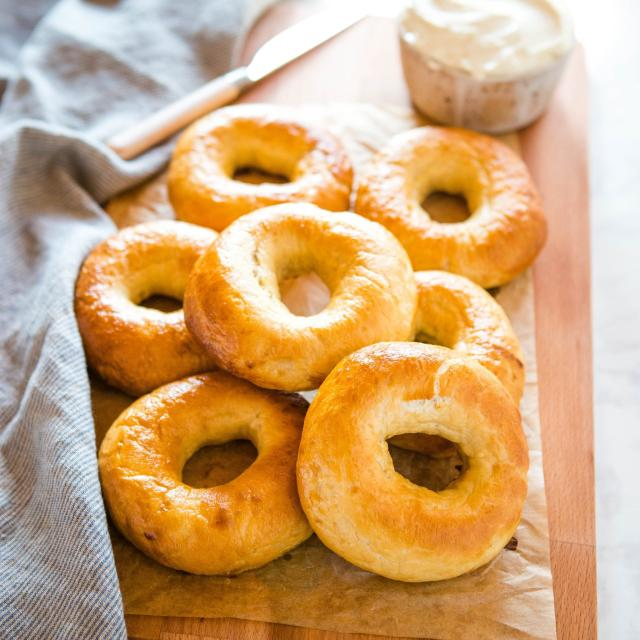Bagel: (296, 342, 529, 581), (184, 202, 418, 391), (99, 371, 312, 575), (356, 126, 548, 288), (74, 220, 218, 396), (168, 104, 352, 231)
